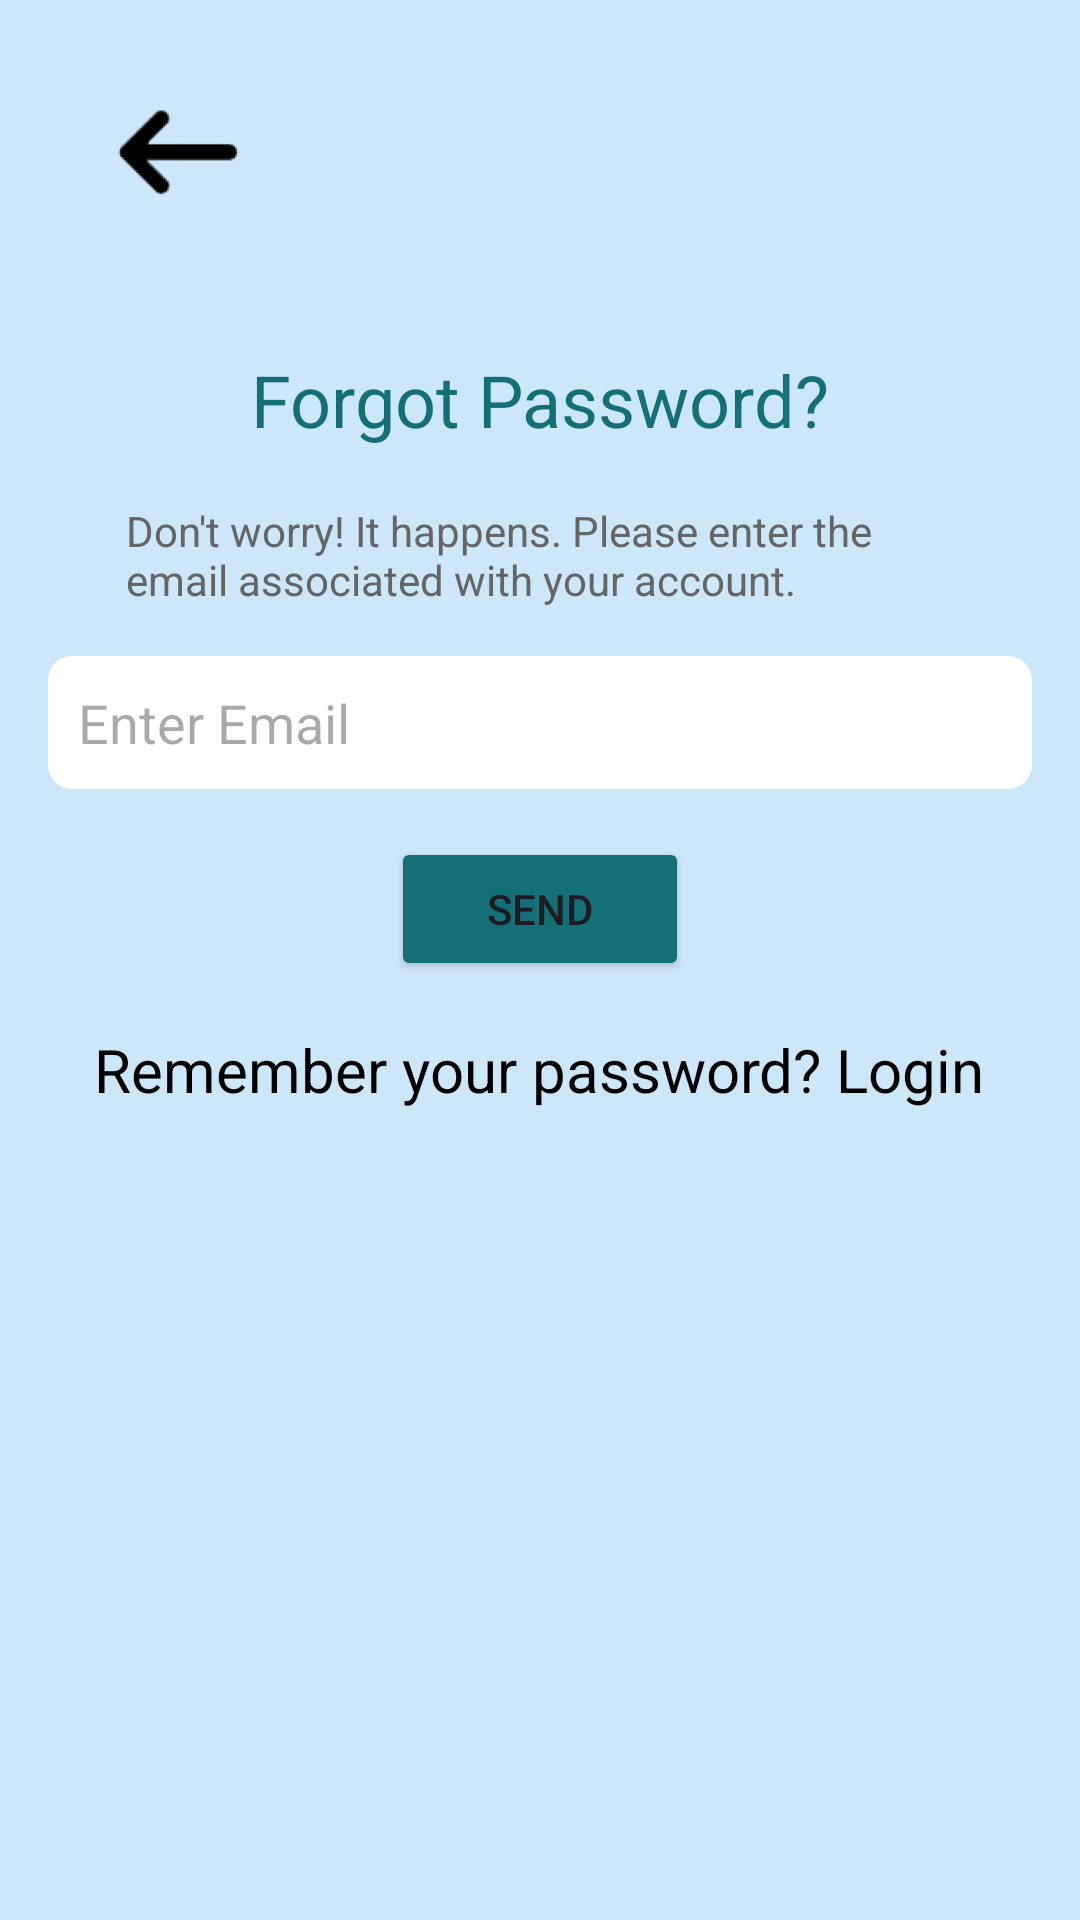

Icons on this 1080×1920 Android screen, each with the point to tap as point (x, y):
arrow: point (178, 152)
